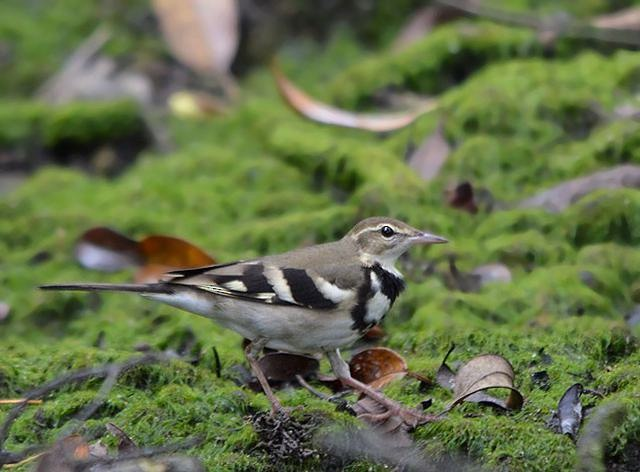wagtail: (48, 205, 463, 389)
